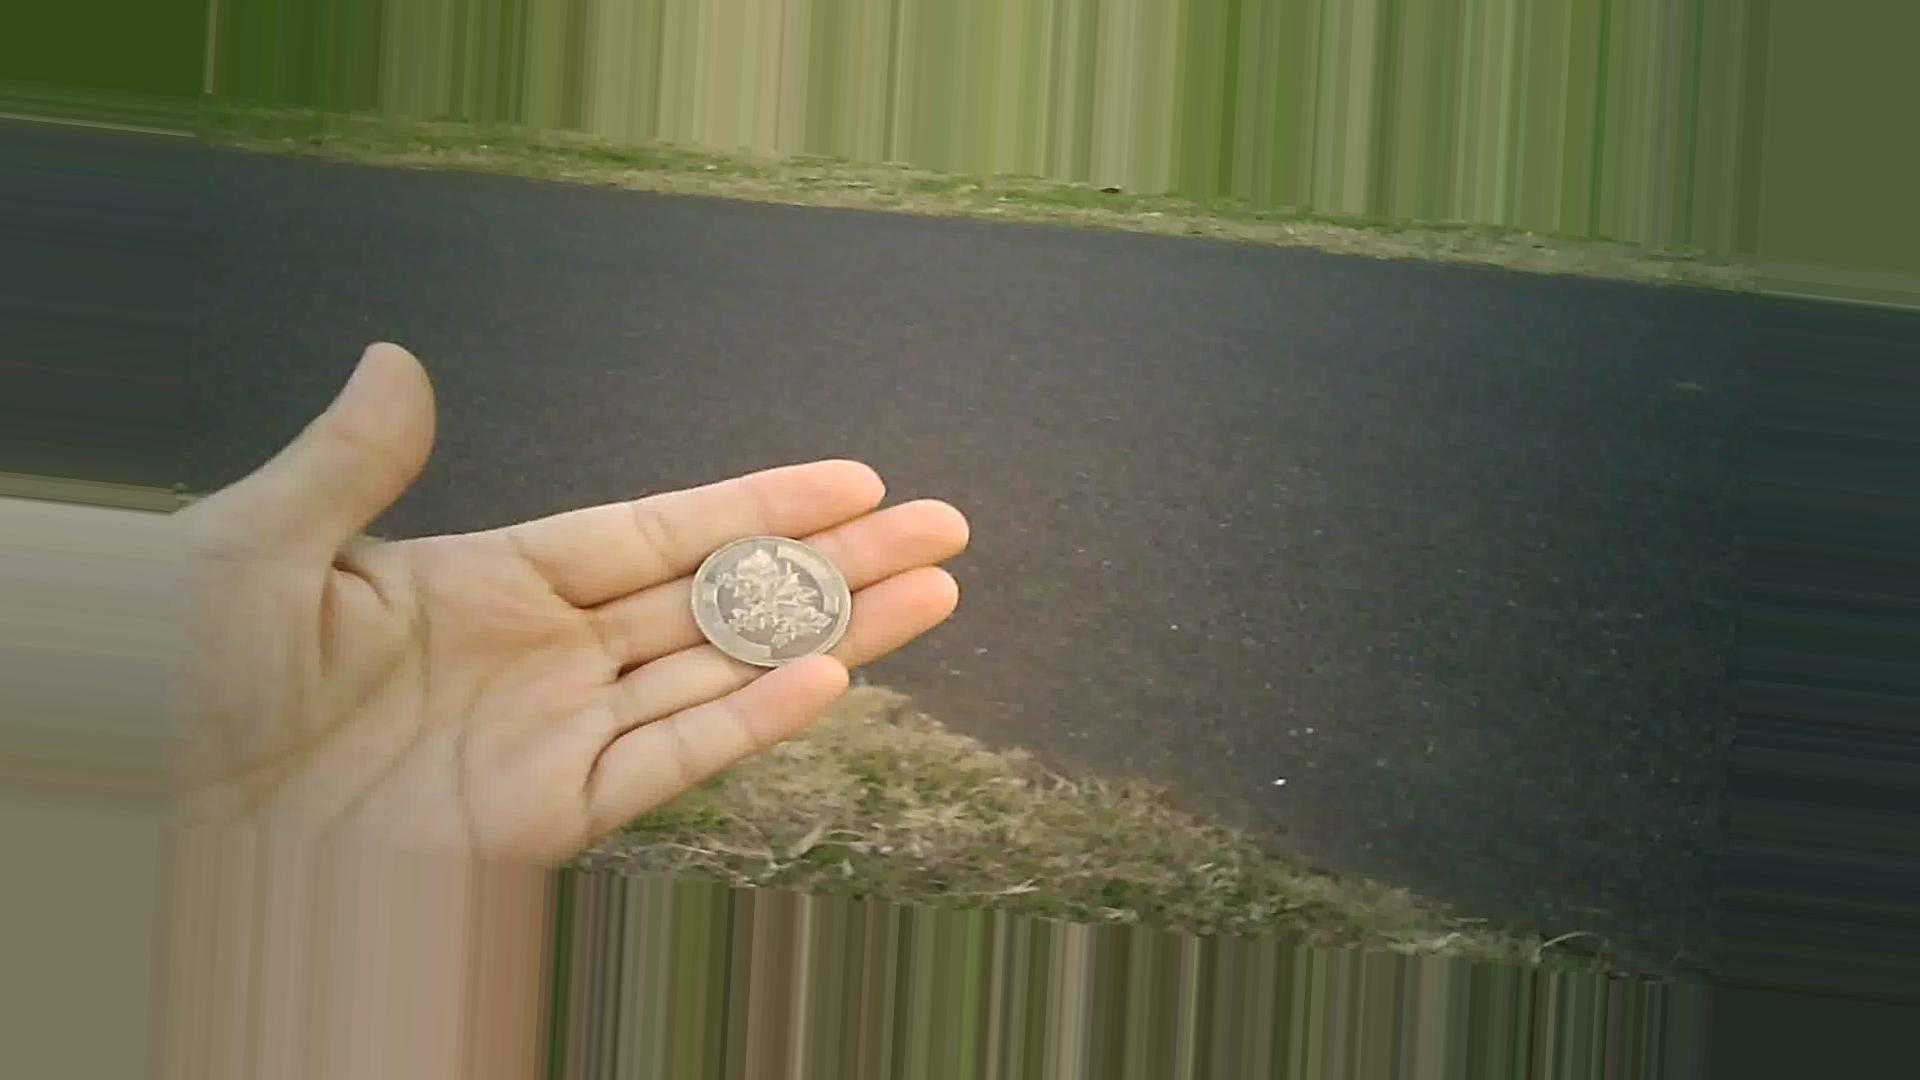500 Yen: (670, 525, 865, 655)
